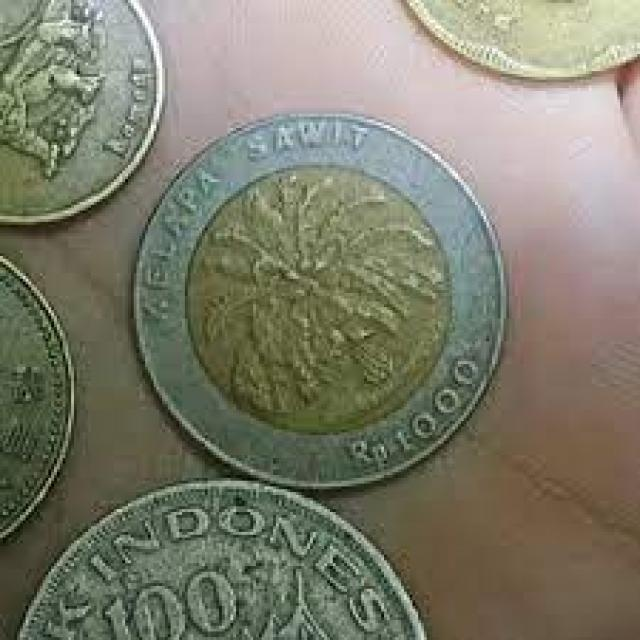1000-sawit: (120, 108, 517, 499)
